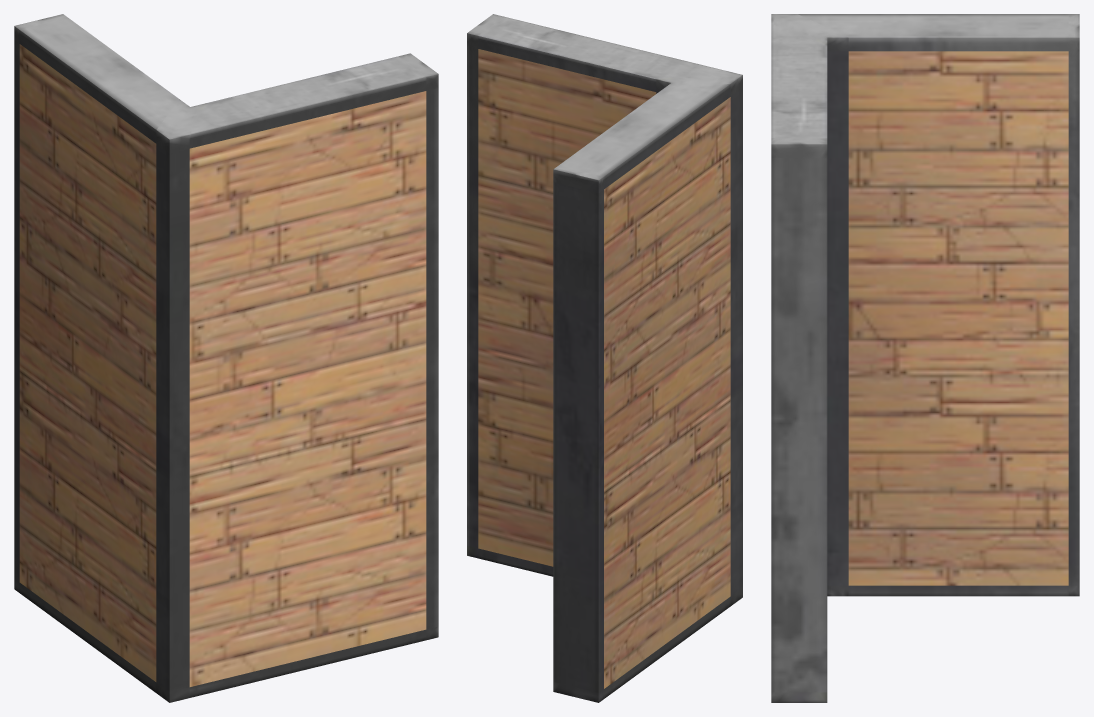
File: 2d346baf-b497-4d1a-8214-91ec648537c3.glb
The picture shows the model from 3 angles, left to right: view 1: azimuth 30°, elevation 25°; view 2: azimuth 150°, elevation 25°; view 3: azimuth 270°, elevation 25°; orthographic projection. The views are drawn at different scales.
Visible parts, largest first — view 1: Wall corner Module; view 2: Wall corner Module; view 3: Wall corner Module.
Boxes of the visible parts, x1=… form: Wall corner Module: x1=14, y1=14, x2=438, y2=702; Wall corner Module: x1=467, y1=14, x2=742, y2=702; Wall corner Module: x1=771, y1=14, x2=1079, y2=702.
Size of what is drawn, in the model's own units: 2.25 by 4.5 by 2.25.
1 material, 1 textured.
